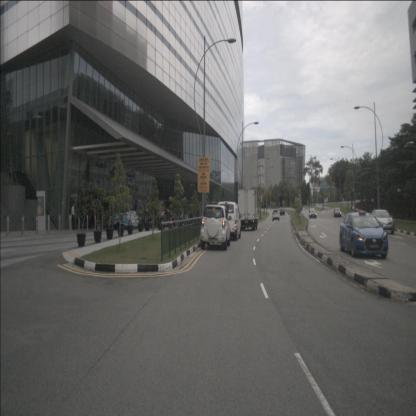human-pedestrian-adult: (71, 202, 76, 230)
vehicle-car: (339, 212, 388, 259), (200, 204, 232, 250), (218, 201, 242, 240), (369, 209, 395, 235), (113, 207, 142, 229), (308, 208, 317, 219), (272, 210, 280, 221), (333, 208, 342, 217), (280, 208, 285, 215)
vehicle-truck: (237, 189, 258, 231)
